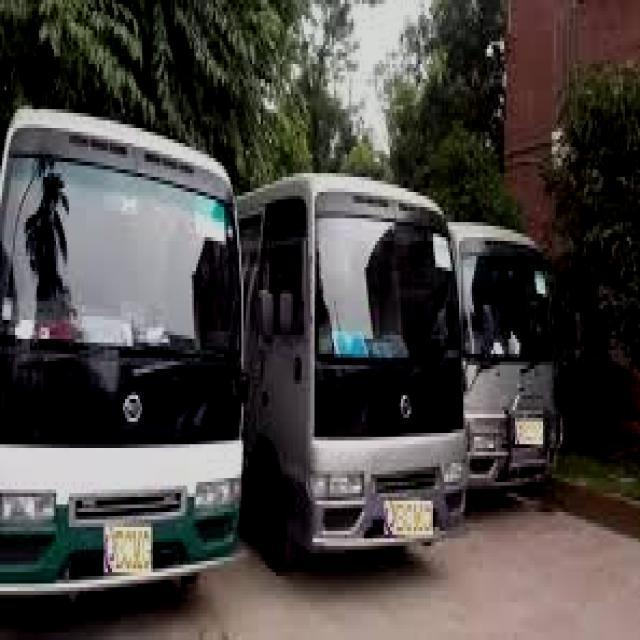Bus: (0, 75, 252, 621), (239, 128, 465, 556), (449, 156, 571, 517)
